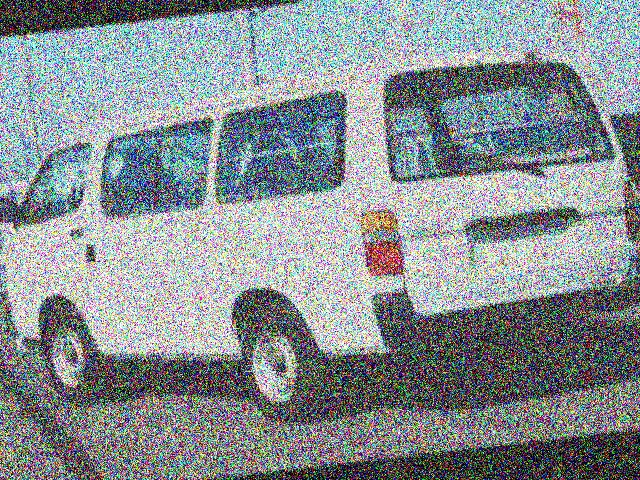van: (0, 28, 640, 433)
